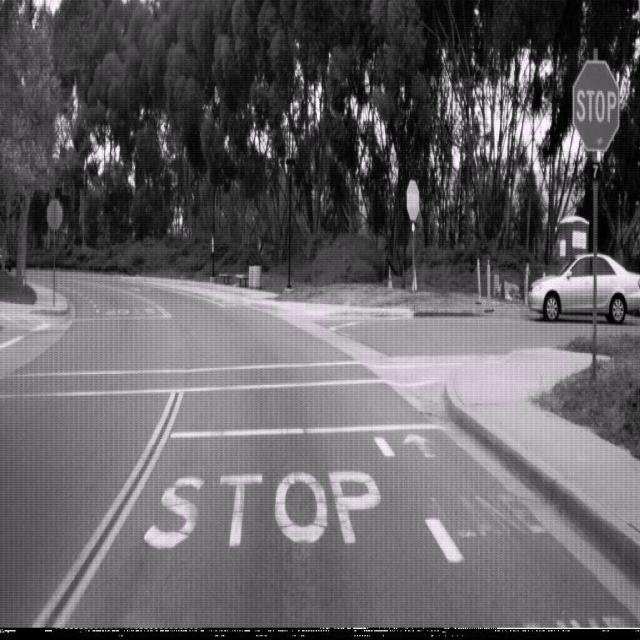stop_sign: (572, 59, 620, 151), (406, 179, 420, 219)
